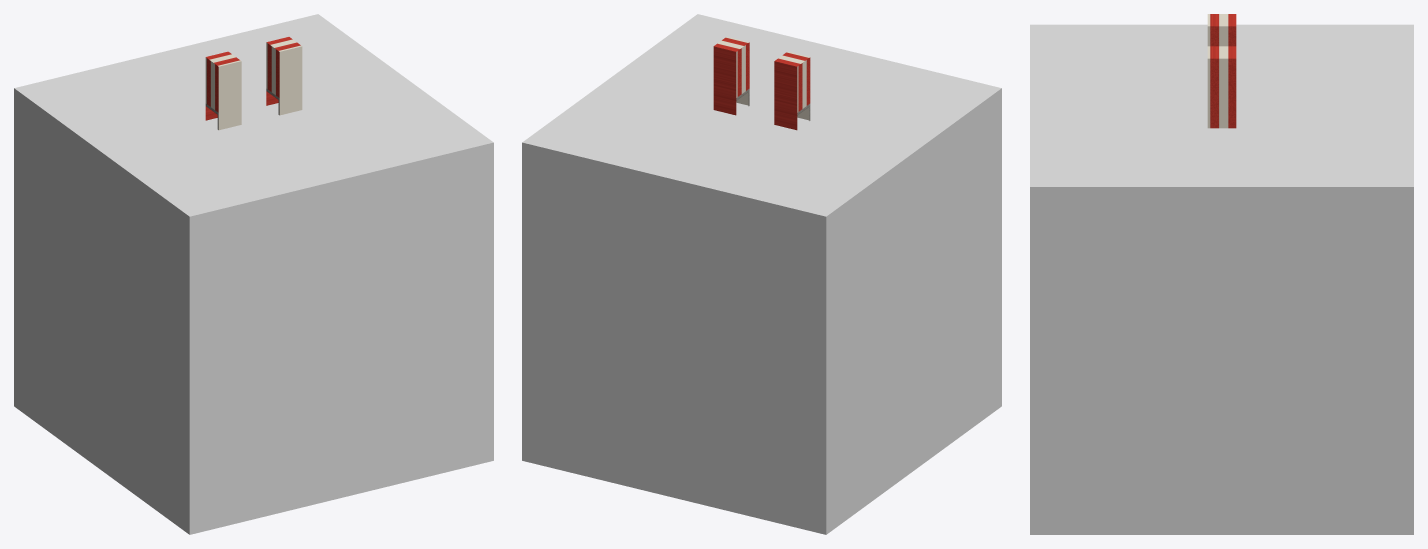
The model's file is durlacher_house.glb.
3 renders of one model, left to right at view 1: azimuth 30°, elevation 25°; view 2: azimuth 150°, elevation 25°; view 3: azimuth 270°, elevation 25°, orthographic. The views are drawn at different scales.
Visible parts, largest first — view 1: Cube, durlacher_house__chimney_0_xb, durlacher_house__chimney_1_xb; view 2: Cube, durlacher_house__chimney_0_xb, durlacher_house__chimney_1_xb; view 3: Cube, durlacher_house__chimney_1_xb, durlacher_house__chimney_0_xb.
Part boxes in pixels (x1,y1,x2,y2): Cube: [14, 14, 493, 534]; durlacher_house__chimney_0_xb: [205, 51, 241, 130]; durlacher_house__chimney_1_xb: [266, 37, 302, 115]; Cube: [522, 14, 1001, 534]; durlacher_house__chimney_0_xb: [774, 51, 810, 130]; durlacher_house__chimney_1_xb: [713, 37, 749, 115]; Cube: [1030, 24, 1413, 534]; durlacher_house__chimney_1_xb: [1207, 46, 1236, 128]; durlacher_house__chimney_0_xb: [1207, 14, 1236, 46].
Size of the model in its own units: 2 by 2.4 by 2.
Materials: 2 (1 with a texture image).
